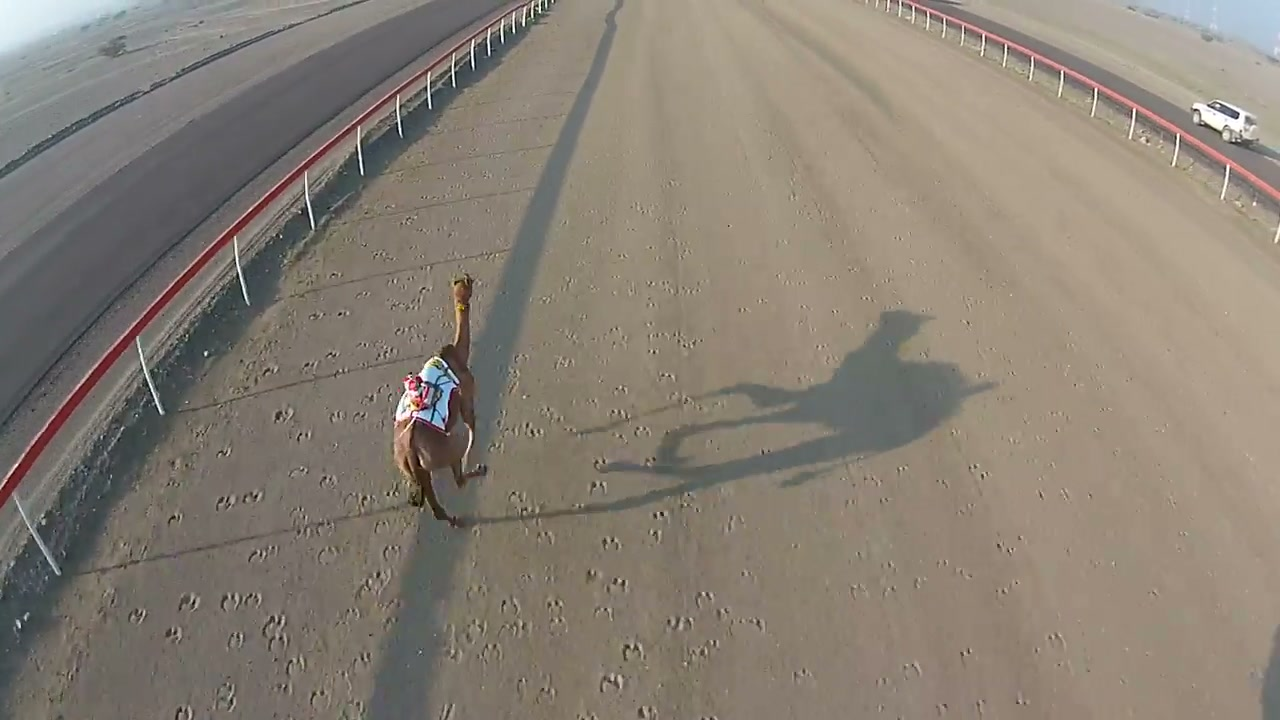animal_foot_print: (149, 240, 442, 719), (559, 362, 702, 711)
